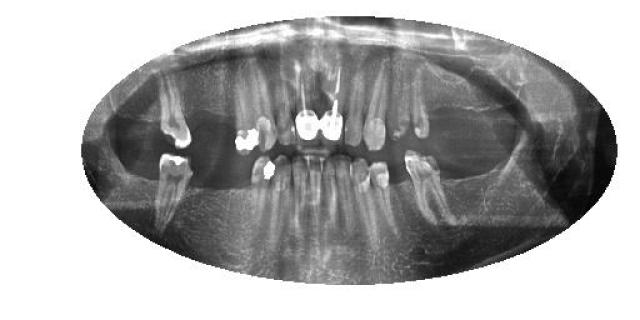Cavity: (402, 142, 452, 222), (152, 152, 196, 232), (156, 76, 194, 149)
Fillings: (248, 152, 276, 222), (234, 82, 260, 154)
Implant: (320, 62, 344, 142), (296, 61, 320, 141)
